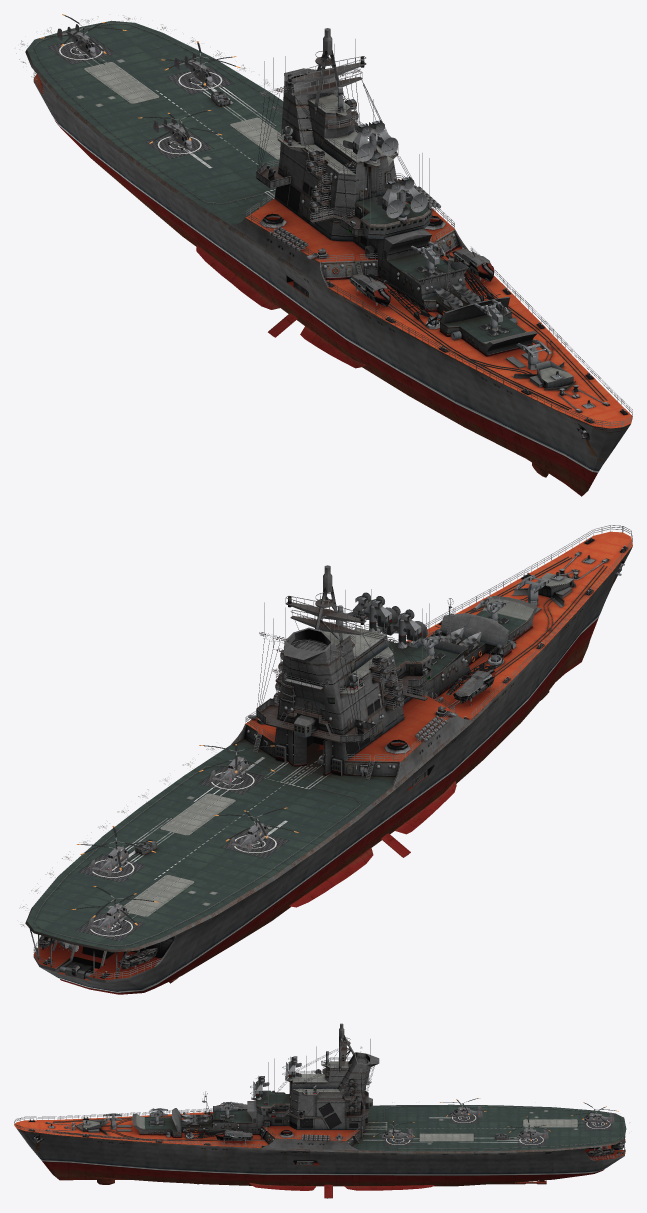
The model's file is moskva_helicopter_carrier.glb.
The picture shows the model from 3 angles, top to bottom: view 1: azimuth 30°, elevation 25°; view 2: azimuth 150°, elevation 25°; view 3: azimuth 270°, elevation 25°; orthographic projection. The views are drawn at different scales.
Visible parts, largest first — view 1: Object_7, Object_3, Object_4, Object_6, Object_5, Object_2, Object_8; view 2: Object_3, Object_7, Object_4, Object_6, Object_5, Object_8; view 3: Object_7, Object_3, Object_4, Object_6, Object_5, Object_8.
Part boxes in pixels (left/top/right/bottom): Object_7: left=25, top=23, right=630, bottom=496; Object_3: left=27, top=20, right=632, bottom=428; Object_4: left=34, top=23, right=627, bottom=438; Object_6: left=16, top=15, right=632, bottom=427; Object_5: left=40, top=14, right=240, bottom=150; Object_2: left=353, top=128, right=427, bottom=218; Object_8: left=292, top=147, right=494, bottom=306; Object_3: left=27, top=531, right=632, bottom=980; Object_7: left=25, top=546, right=632, bottom=994; Object_4: left=35, top=537, right=627, bottom=978; Object_6: left=19, top=525, right=632, bottom=979; Object_5: left=71, top=744, right=298, bottom=933; Object_8: left=39, top=641, right=495, bottom=969; Object_7: left=16, top=1023, right=626, bottom=1198; Object_3: left=14, top=1039, right=626, bottom=1165; Object_4: left=28, top=1038, right=623, bottom=1153; Object_6: left=14, top=1037, right=625, bottom=1159; Object_5: left=373, top=1098, right=618, bottom=1141; Object_8: left=215, top=1057, right=614, bottom=1156.
Size of the model in its own units: 0.5638 by 0.8014 by 2.8.
Materials: 6 (6 with a texture image).
